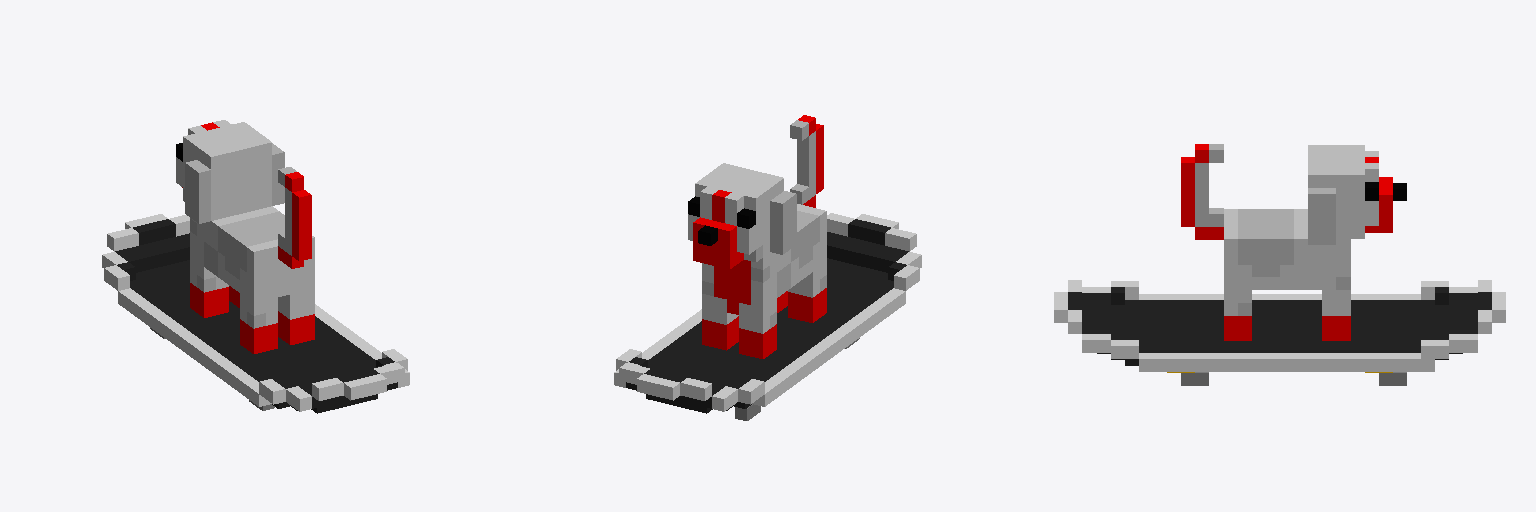
The picture shows the model from 3 angles: view 1: azimuth 30°, elevation 25°; view 2: azimuth 150°, elevation 25°; view 3: azimuth 270°, elevation 25°; orthographic projection.
Visible parts, largest first — view 1: object 1; view 2: object 1; view 3: object 1.
Boxes of the visible parts, x1=… form: object 1: x1=102, y1=120, x2=409, y2=413; object 1: x1=614, y1=115, x2=921, y2=420; object 1: x1=1054, y1=144, x2=1505, y2=385.
Size of the model in its own units: 1.1 by 1.7 by 3.2.
Materials: 1 (1 with a texture image).